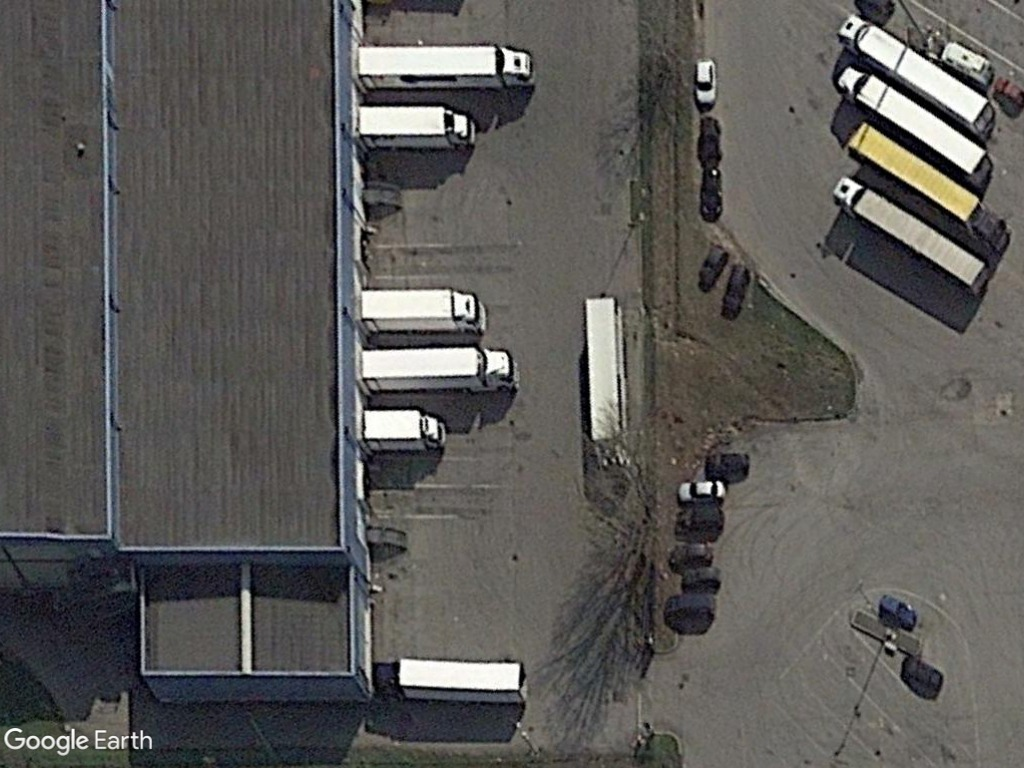car: (876, 587, 924, 635), (671, 474, 733, 507), (690, 50, 721, 111)
longvehicle: (845, 106, 1013, 267), (833, 8, 1002, 143), (826, 56, 996, 189), (825, 168, 983, 307), (351, 38, 537, 94), (582, 290, 639, 472), (355, 340, 525, 400), (371, 652, 535, 710), (356, 283, 493, 340), (355, 101, 483, 154), (359, 405, 453, 457)
other: (894, 650, 943, 702), (695, 160, 730, 227), (718, 260, 757, 318), (660, 587, 724, 621), (696, 238, 732, 294), (699, 447, 755, 482), (660, 538, 718, 569), (673, 507, 730, 536), (698, 108, 724, 169)
